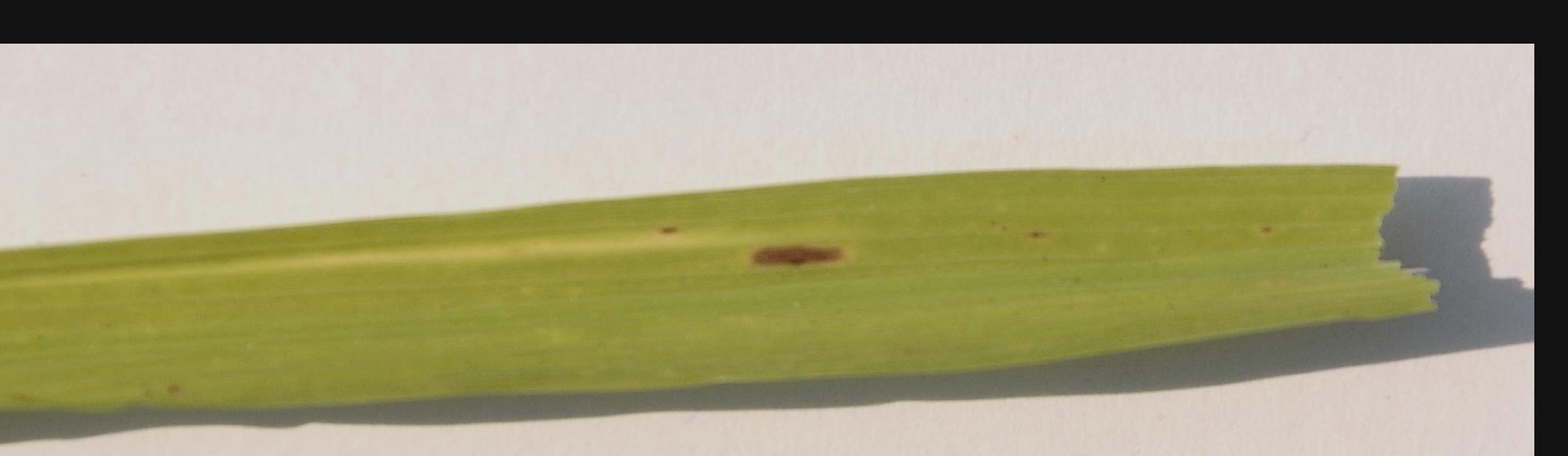Bacterial_Leaf_Blight: (716, 233, 874, 269)
